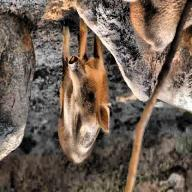boar: (43, 30, 116, 162)
